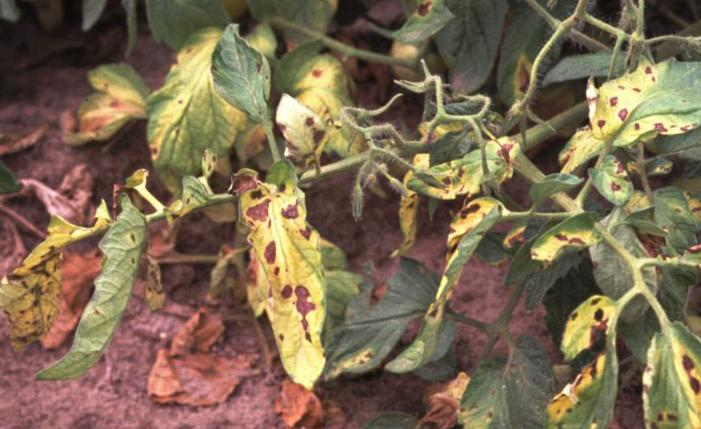Tomato Early blight leaf: (219, 162, 326, 385), (550, 44, 701, 165), (530, 297, 627, 429), (0, 214, 84, 363), (626, 324, 701, 429)
